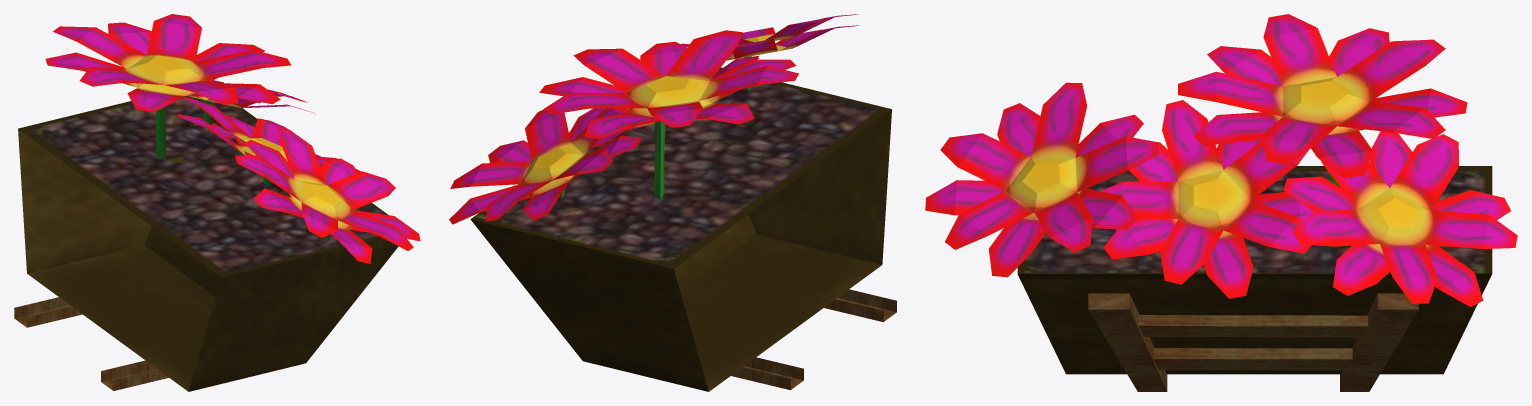
Rendered from doniczka_01.fbx.
The picture shows the model from 3 angles, left to right: view 1: azimuth 30°, elevation 25°; view 2: azimuth 150°, elevation 25°; view 3: azimuth 270°, elevation 25°; orthographic projection. The views are drawn at different scales.
Visible parts, largest first — view 1: Cube; view 2: Cube; view 3: Cube.
Part boxes in pixels (x1,y1,x2,y2): Cube: (14,14,420,391); Cube: (449,14,896,391); Cube: (925,14,1517,391).
Bounding box in the file's own units: 280 × 232 × 417.
